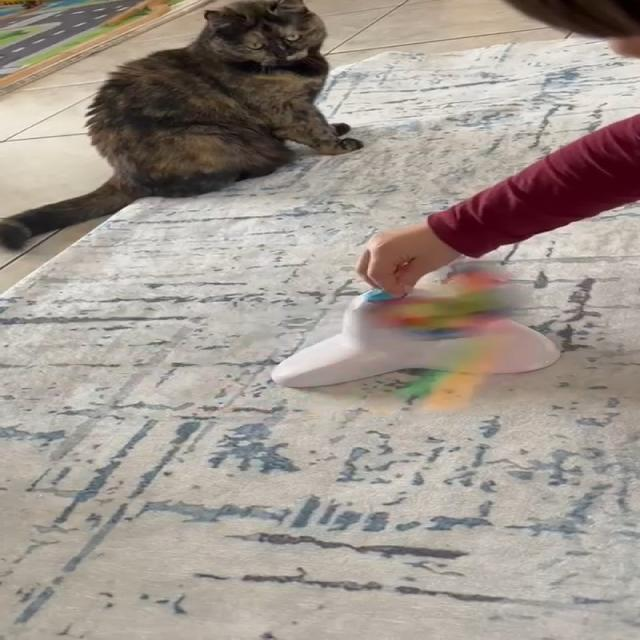authorized: (0, 0, 363, 251)
